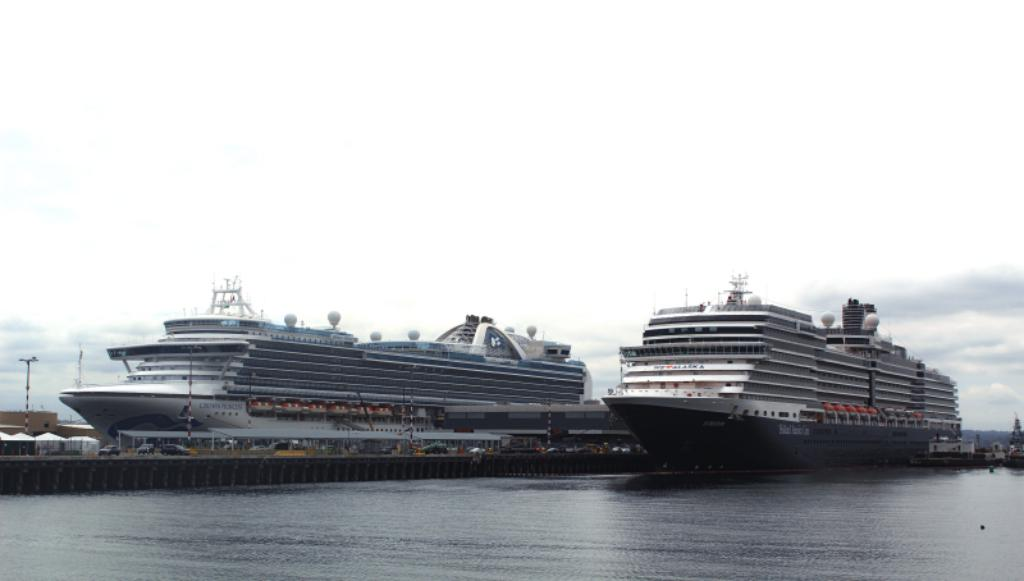PassengerShip: (55, 276, 593, 440), (602, 267, 964, 473)
